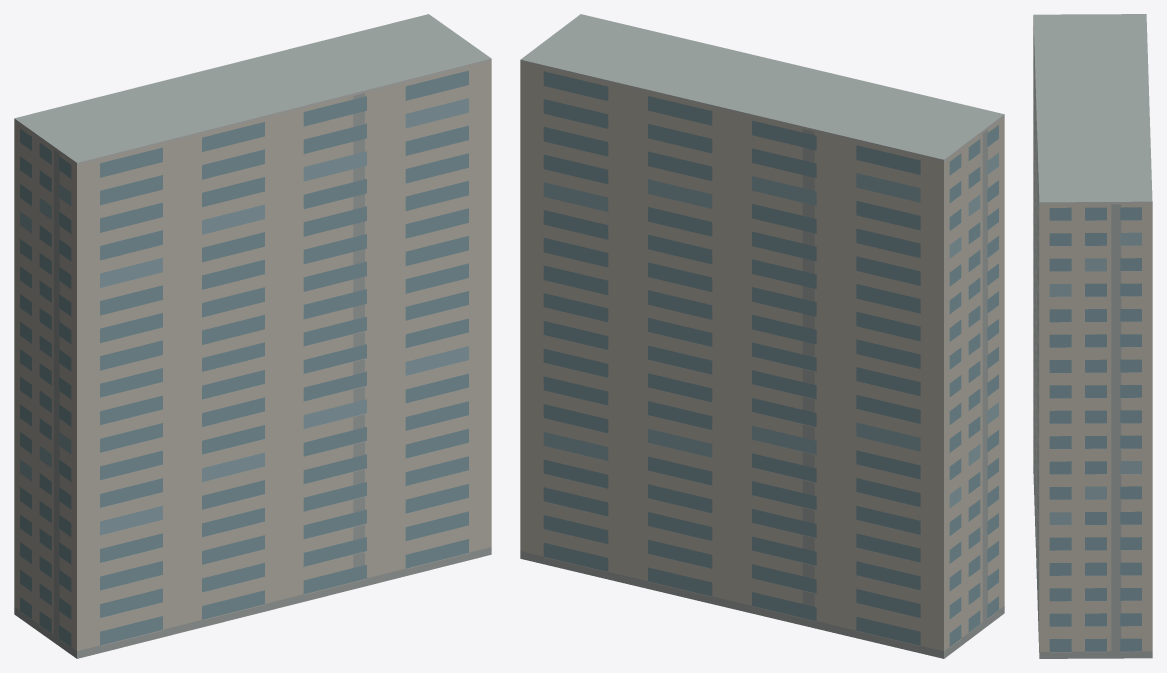
File: residential-ffdd17e7-a2e7-4a48-bf3b-010a2fabecf7.glb
3 views of the same model, side by side, from view 1: azimuth 30°, elevation 25°; view 2: azimuth 150°, elevation 25°; view 3: azimuth 270°, elevation 25° (orthographic). The views are drawn at different scales.
Parts seen in each view (by area): view 1: residential-ffdd17e7-a2e7-4a48-bf3b-010a2fabecf7.tmp; view 2: residential-ffdd17e7-a2e7-4a48-bf3b-010a2fabecf7.tmp; view 3: residential-ffdd17e7-a2e7-4a48-bf3b-010a2fabecf7.tmp.
Part boxes in pixels (x1,y1,x2,y2): residential-ffdd17e7-a2e7-4a48-bf3b-010a2fabecf7.tmp: (14, 14, 491, 658); residential-ffdd17e7-a2e7-4a48-bf3b-010a2fabecf7.tmp: (520, 14, 1004, 658); residential-ffdd17e7-a2e7-4a48-bf3b-010a2fabecf7.tmp: (1033, 14, 1152, 658).
Bounding box in the file's own units: 42.47 × 48 × 11.36.
